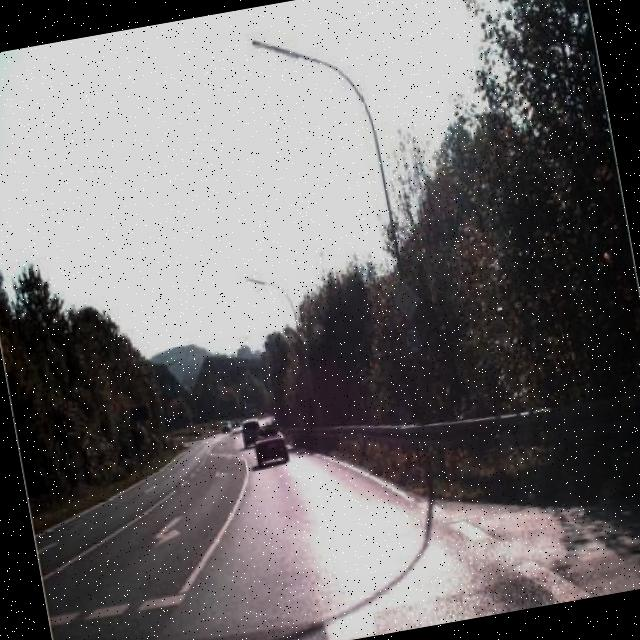Ograniczenie predkosci do 50: (398, 320, 428, 360)
